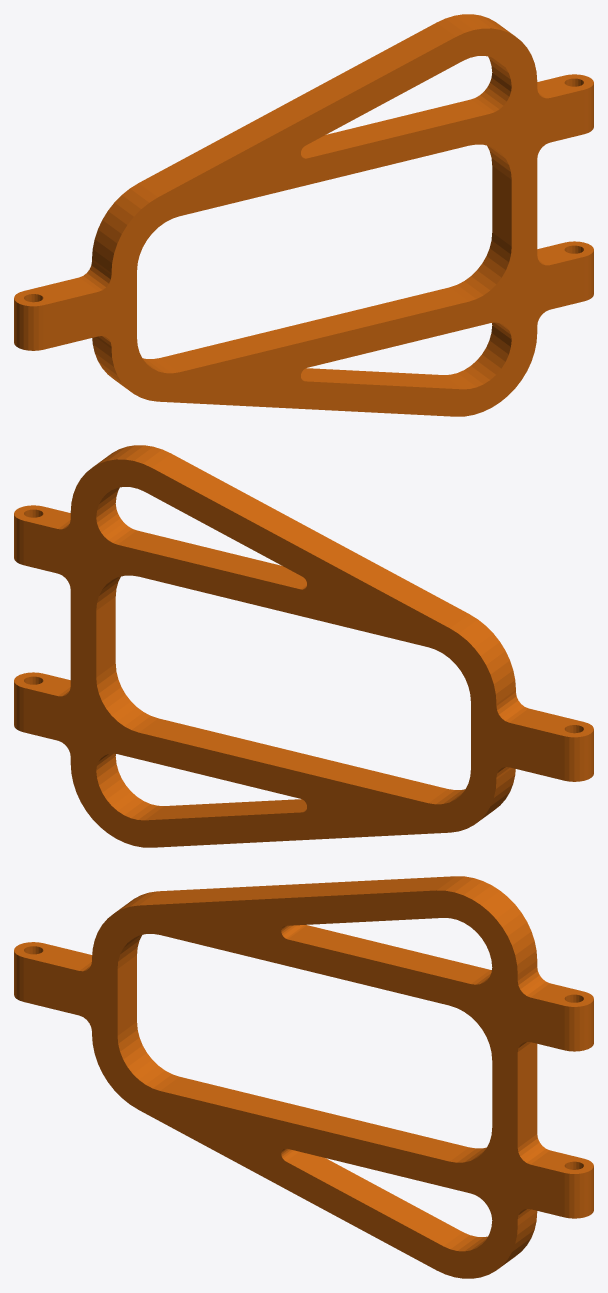
Rendered from upper_arm.dae.
3 views of the same model, one above another, from view 1: azimuth 30°, elevation 25°; view 2: azimuth 150°, elevation 25°; view 3: azimuth 330°, elevation 25° (orthographic).
Visible parts, largest first — view 1: Upper_Arm; view 2: Upper_Arm; view 3: Upper_Arm.
Boxes of the visible parts, x1,y1,x2,y2 form: Upper_Arm: [14, 14, 593, 416]; Upper_Arm: [14, 445, 593, 847]; Upper_Arm: [14, 876, 593, 1278].
Bounding box in the file's own units: 0.27 × 0.0159 × 0.1728.
